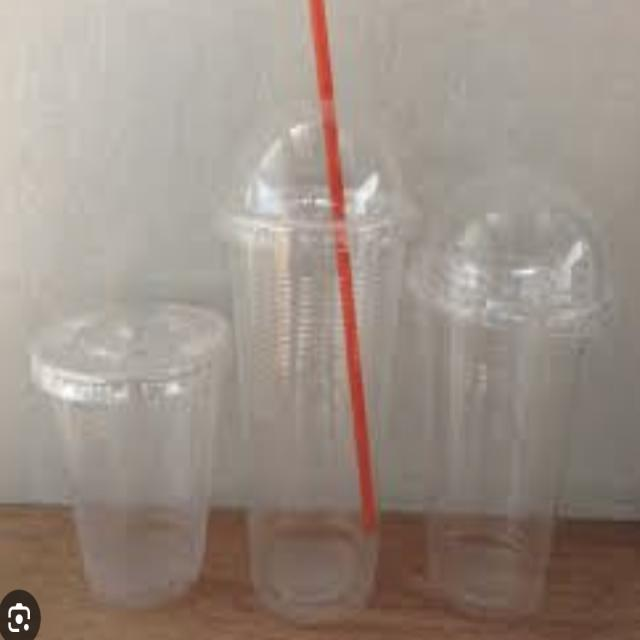recyclable: (207, 83, 411, 634), (406, 118, 618, 625), (28, 278, 247, 612)
